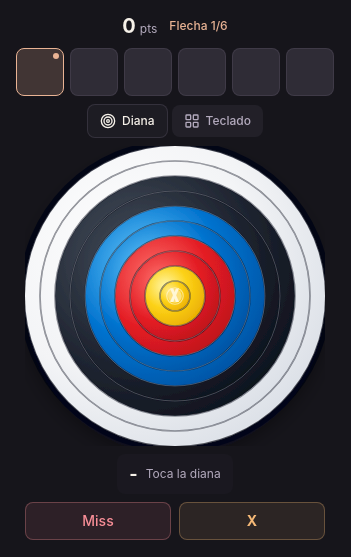
Scenario: EndInput › score flow from ScoreNumpad › records score when clicking numpad button
The width and height of the screenshot is (351, 557).
Step 1. Click the radio button labelled "Teclado" → (217, 121), box top-left (172, 105), bottom-right (263, 137)
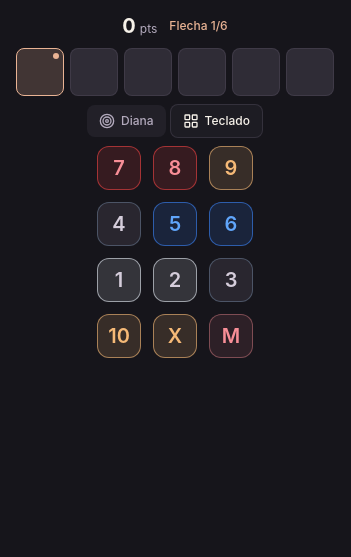
Step 2. Click the button named "siete puntos" → (119, 168), box top-left (97, 146), bottom-right (141, 190)
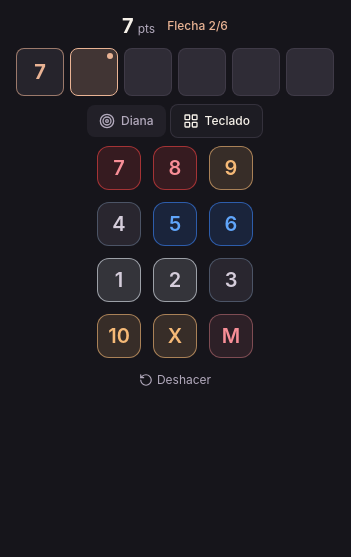
Result: the button named "flecha" reads "7" at top-left (16, 48), bottom-right (64, 96)
